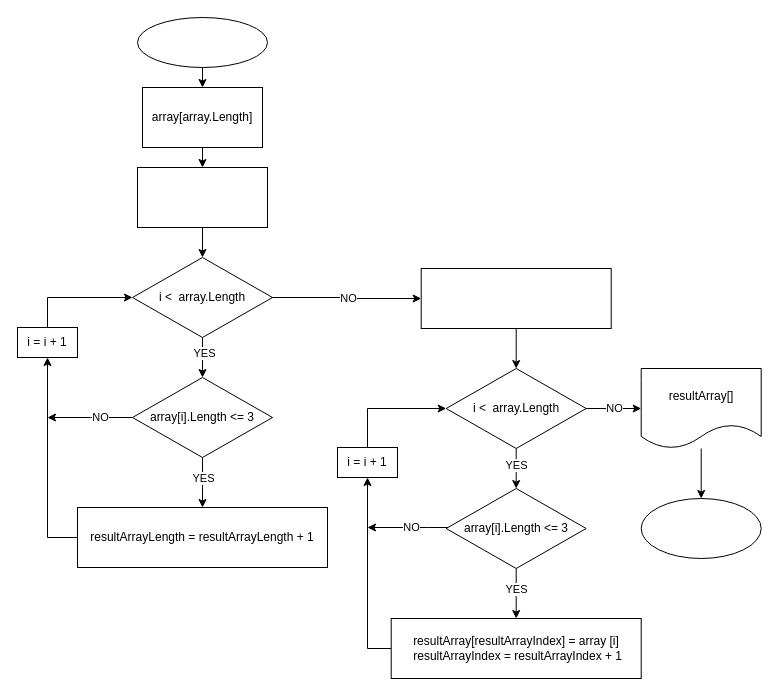
Some shapes in this 779 by 696 pixel diagram are drawn without their labels. The centre of each missing label's shape, as x and y in pixels:
"Begin" goes at pixel 202 42.
"End" goes at pixel 700 528.
"resultArray[resultArrayLength] resultArrayIndex = 0 i = 0" goes at pixel 515 298.
"resultArrayLength = 0 i = 0" goes at pixel 202 197.
